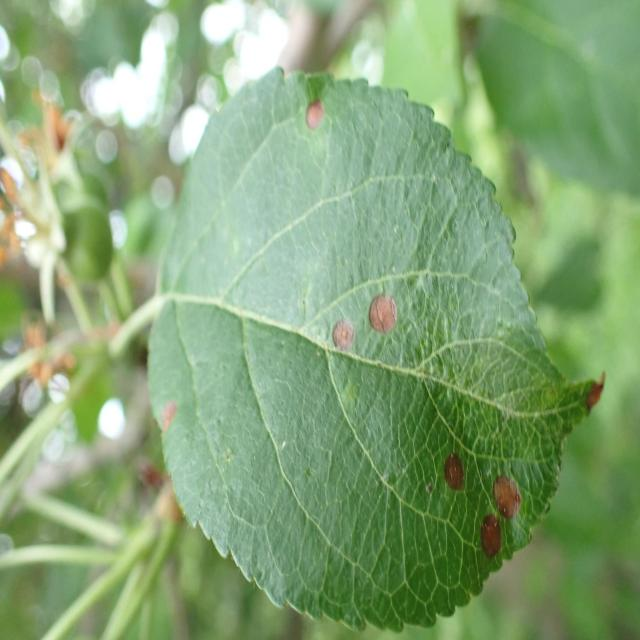frog-eye-leaf-spot: (146, 65, 607, 632)
